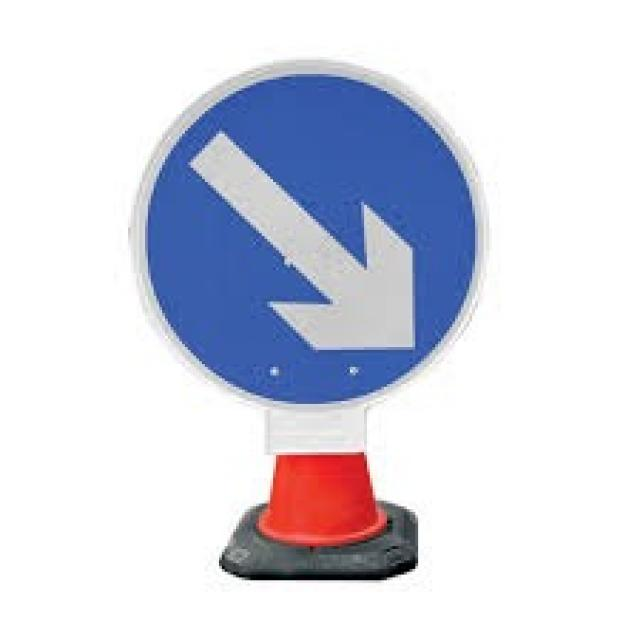compulsory_keep_right: (126, 48, 493, 414)
